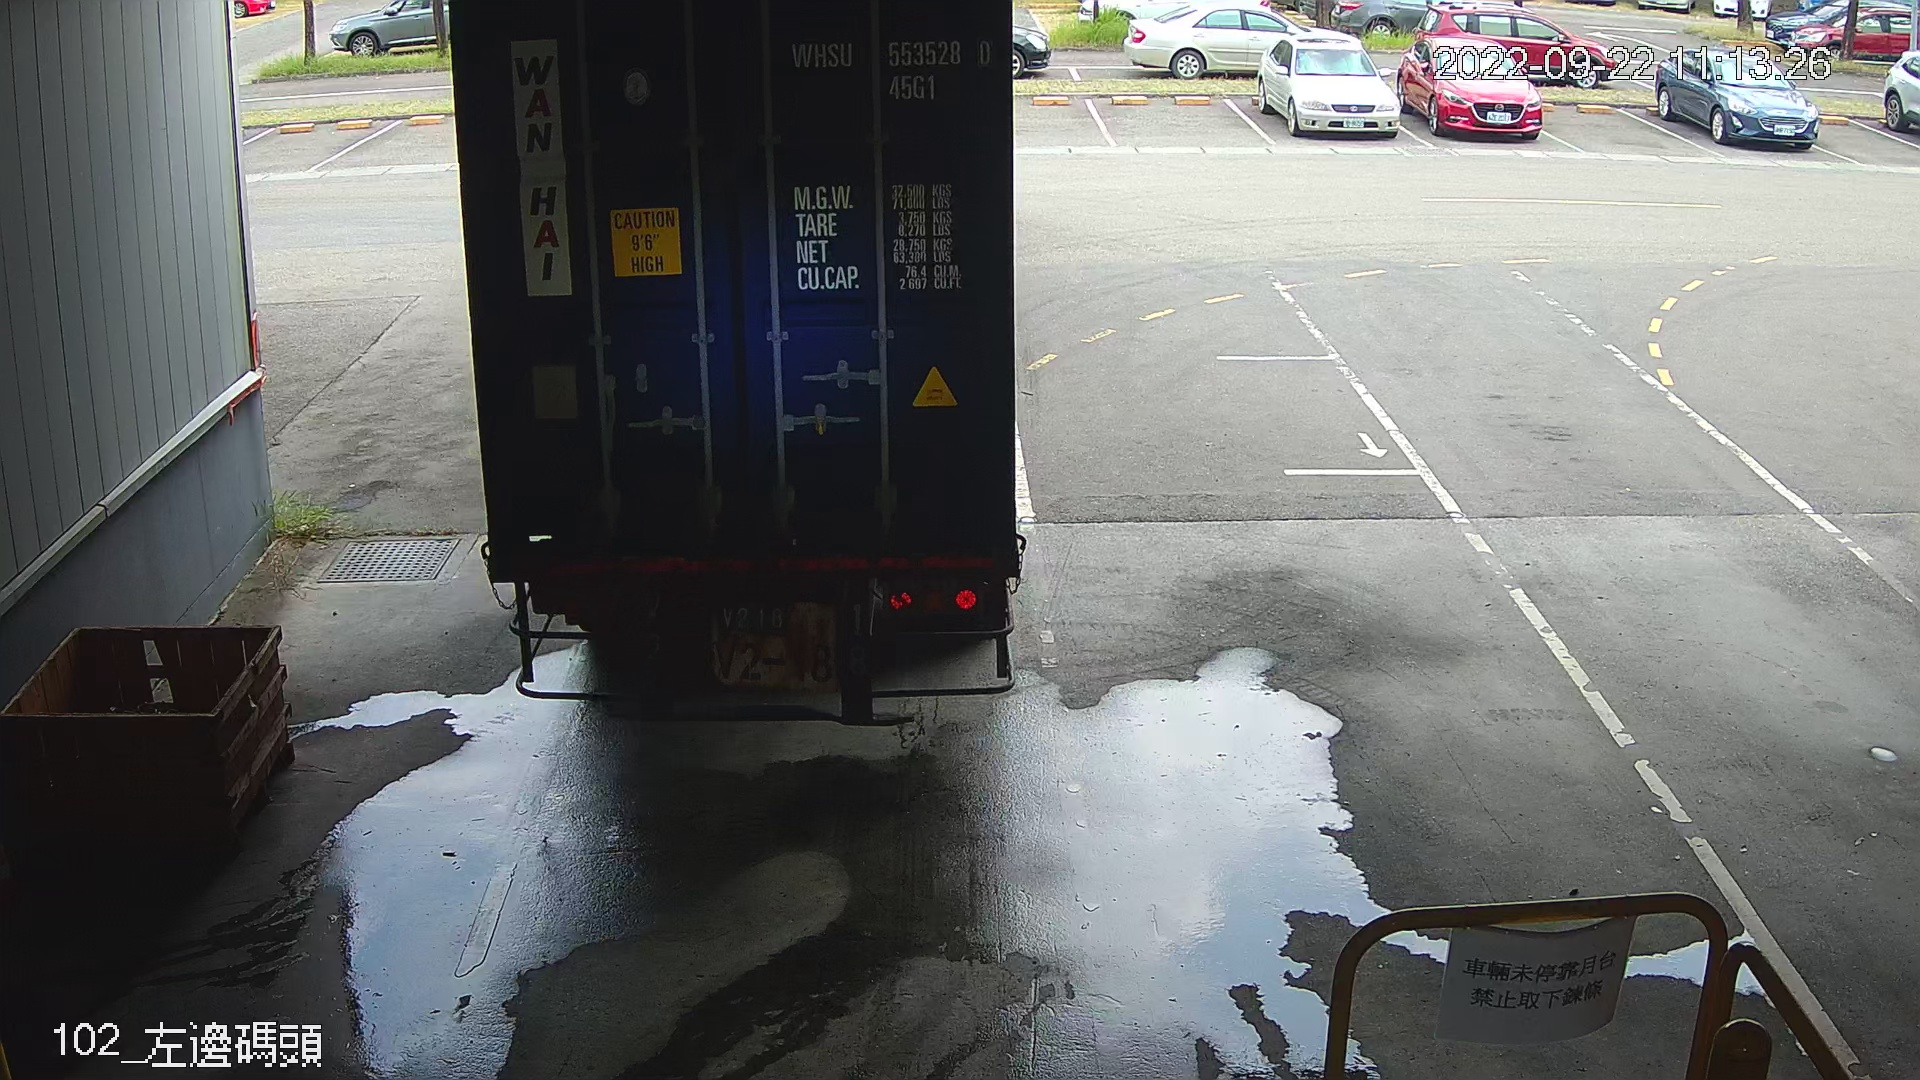container: (781, 32, 1001, 107)
